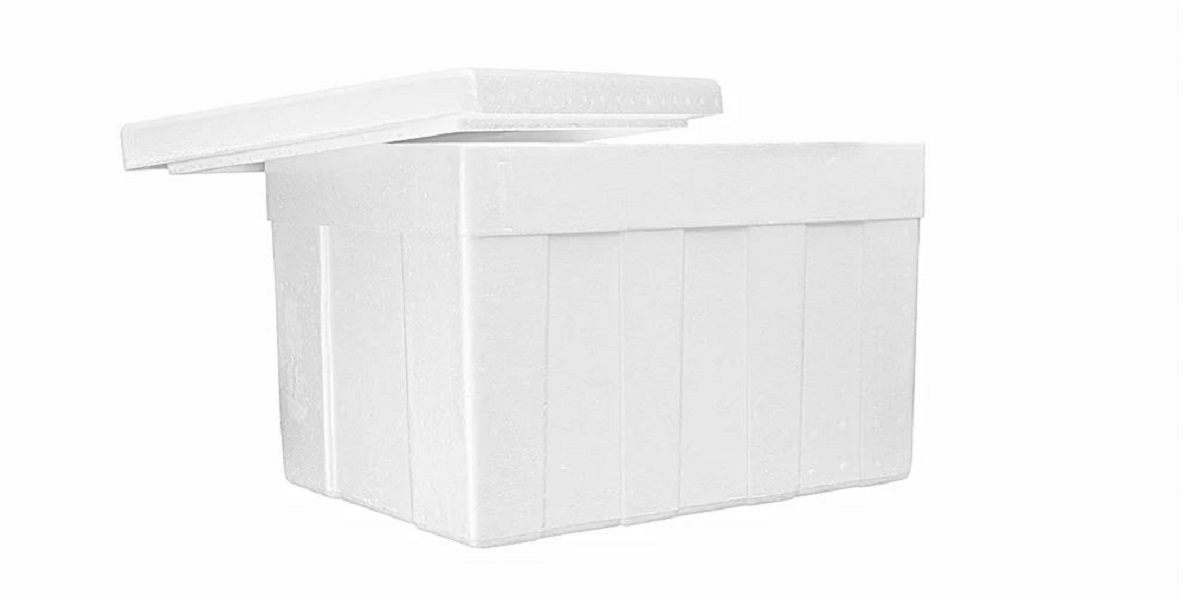泡沫箱: (121, 70, 924, 546)
